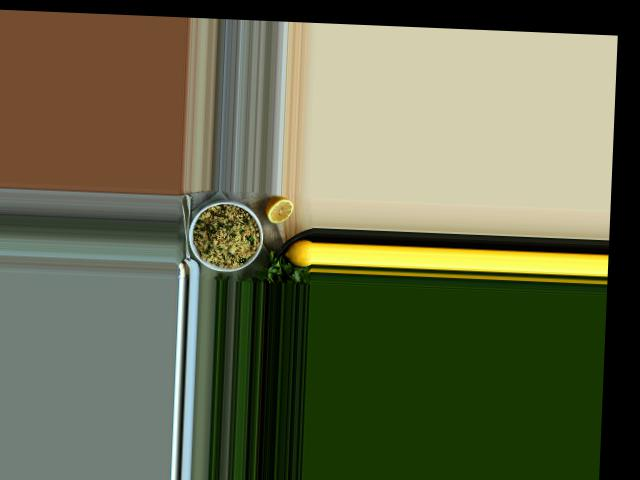lemon: (286, 242, 311, 265)
